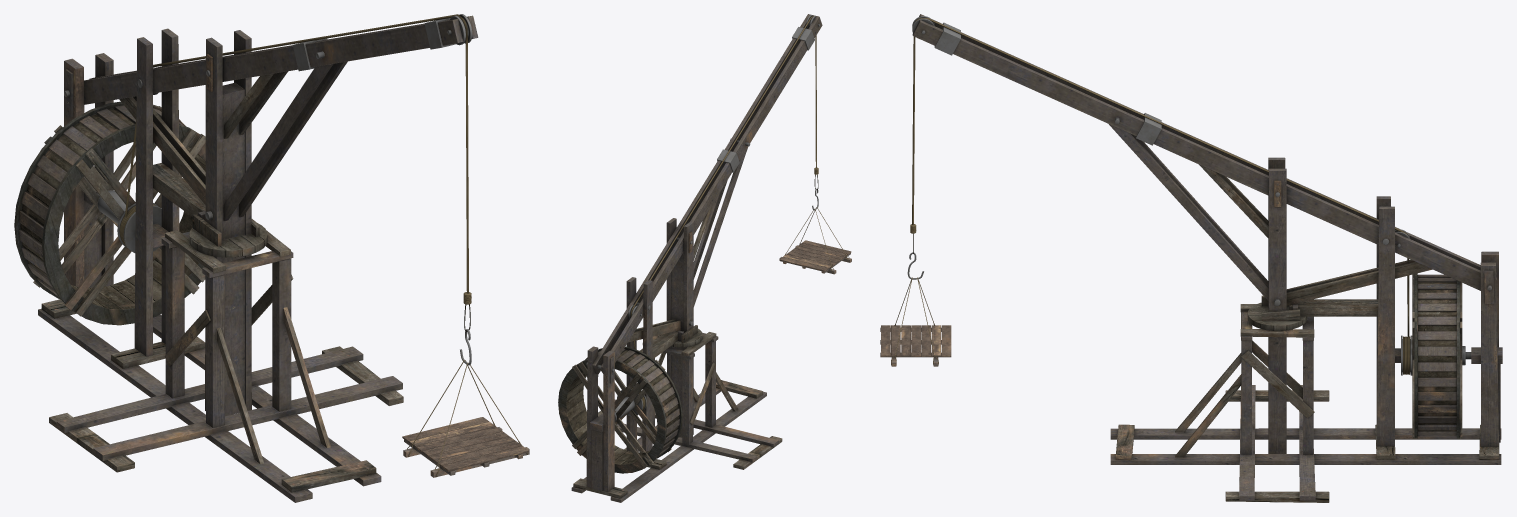
The model's file is crane.fbx.
3 views of the same model, side by side, from view 1: azimuth 30°, elevation 25°; view 2: azimuth 150°, elevation 25°; view 3: azimuth 270°, elevation 25° (orthographic). The views are drawn at different scales.
Parts seen in each view (by area): view 1: Cube, wheel, pallet, rope; view 2: Cube, wheel, pallet, rope; view 3: Cube, wheel, pallet, rope.
Boxes of the visible parts, x1,y1,x2,y2 form: Cube: (38,14,478,502); wheel: (14,101,205,325); pallet: (402,360,529,477); rope: (124,14,471,365); Cube: (571,14,822,502); wheel: (558,346,682,473); pallet: (779,207,851,274); rope: (630,15,818,392); Cube: (912,14,1502,502); wheel: (1412,273,1471,438); pallet: (880,277,951,366); rope: (907,18,1409,336).
Size of the model in its own units: 872 by 1578 by 2064.
